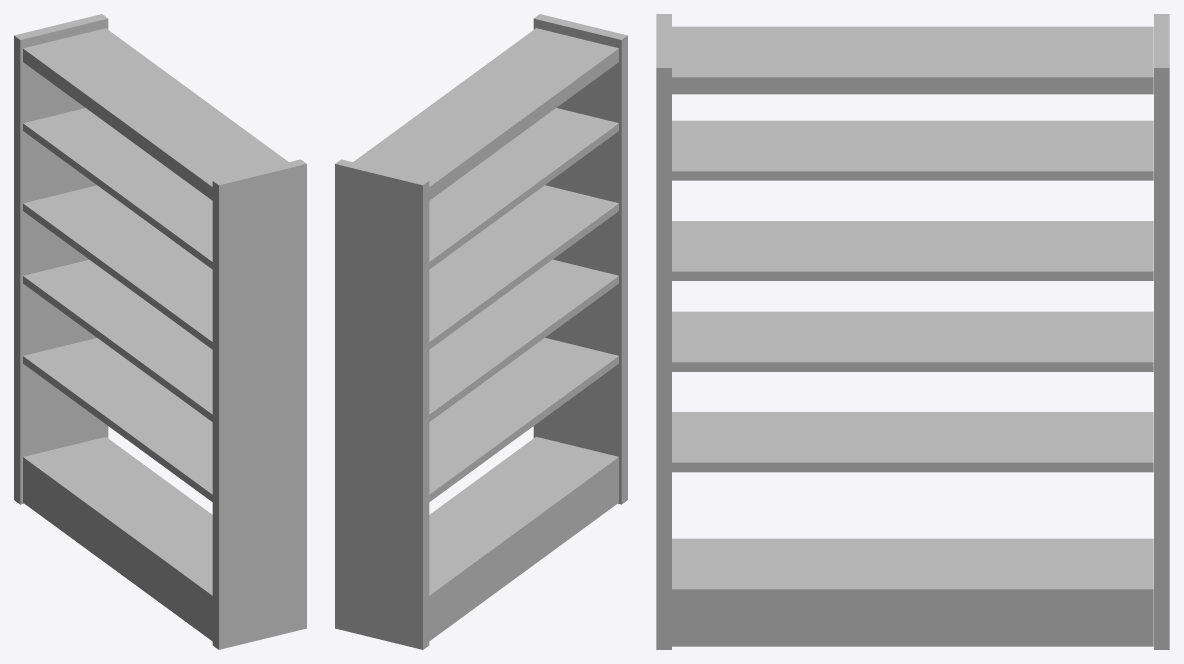
File: SM_Shelf_A1_Empty.fbx
3 views of the same model, side by side, from view 1: azimuth 30°, elevation 25°; view 2: azimuth 150°, elevation 25°; view 3: azimuth 270°, elevation 25° (orthographic). The views are drawn at different scales.
Parts seen in each view (by area): view 1: SM_Shelf_A1_Empty; view 2: SM_Shelf_A1_Empty; view 3: SM_Shelf_A1_Empty.
Boxes of the visible parts, x1=… form: SM_Shelf_A1_Empty: x1=14, y1=14, x2=306, y2=649; SM_Shelf_A1_Empty: x1=335, y1=14, x2=627, y2=649; SM_Shelf_A1_Empty: x1=656, y1=14, x2=1169, y2=649.
Bounding box in the file's own units: 45.02 × 227 × 181.
Materials: 1 (1 with a texture image).
